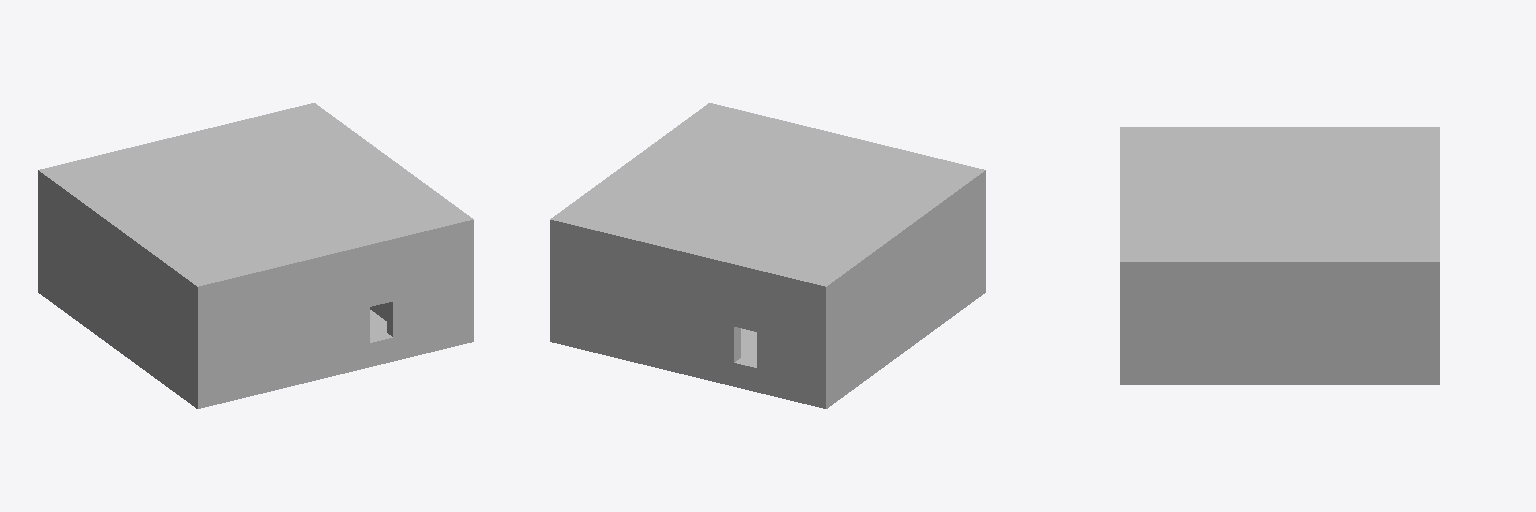
Rendered from room_proto_detailed_flat.obj.
3 views of the same model, side by side, from view 1: azimuth 30°, elevation 25°; view 2: azimuth 150°, elevation 25°; view 3: azimuth 270°, elevation 25° (orthographic).
Visible parts, largest first — view 1: object 1; view 2: object 1; view 3: object 1.
Part boxes in pixels (x1,y1,x2,y2): object 1: (38,103,473,408); object 1: (550,103,985,408); object 1: (1120,127,1439,384).
Bounding box in the file's own units: 14.4 × 6.1 × 14.4.